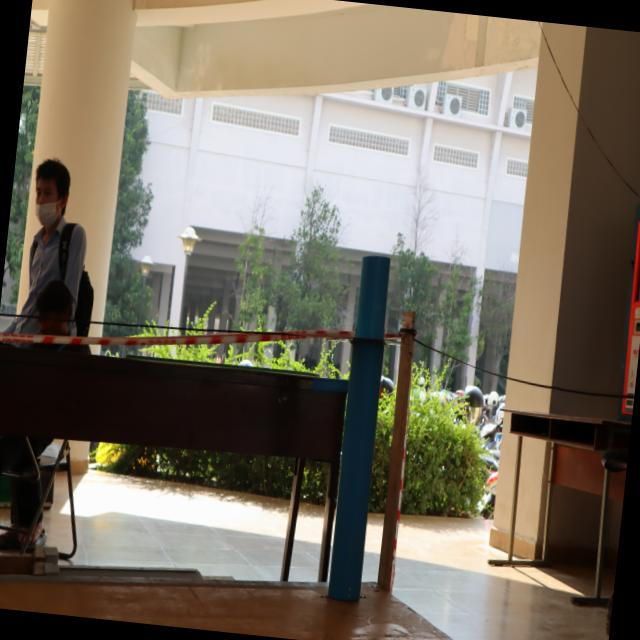pole: (327, 245, 414, 422)
